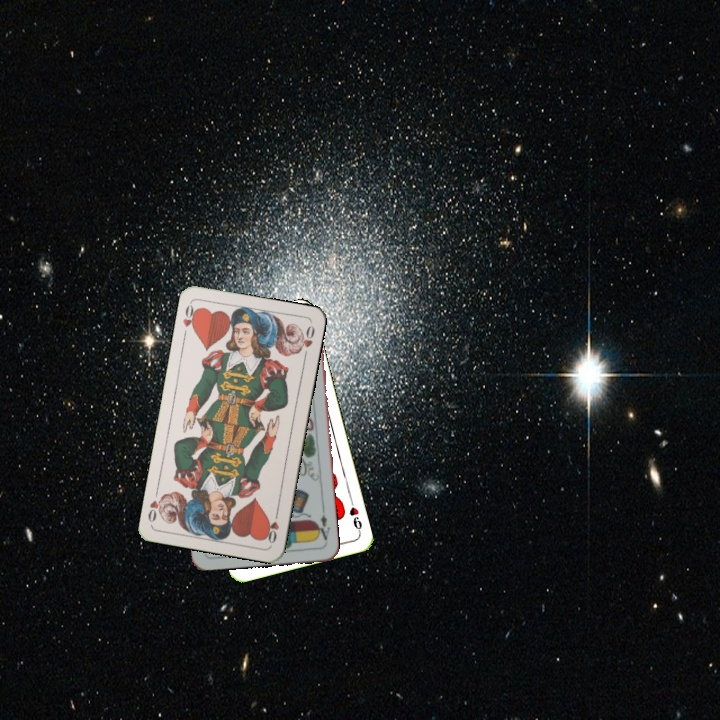EA: (313, 505, 332, 543)
H9: (345, 496, 365, 536)
HO: (179, 299, 200, 340), (262, 506, 282, 546)
